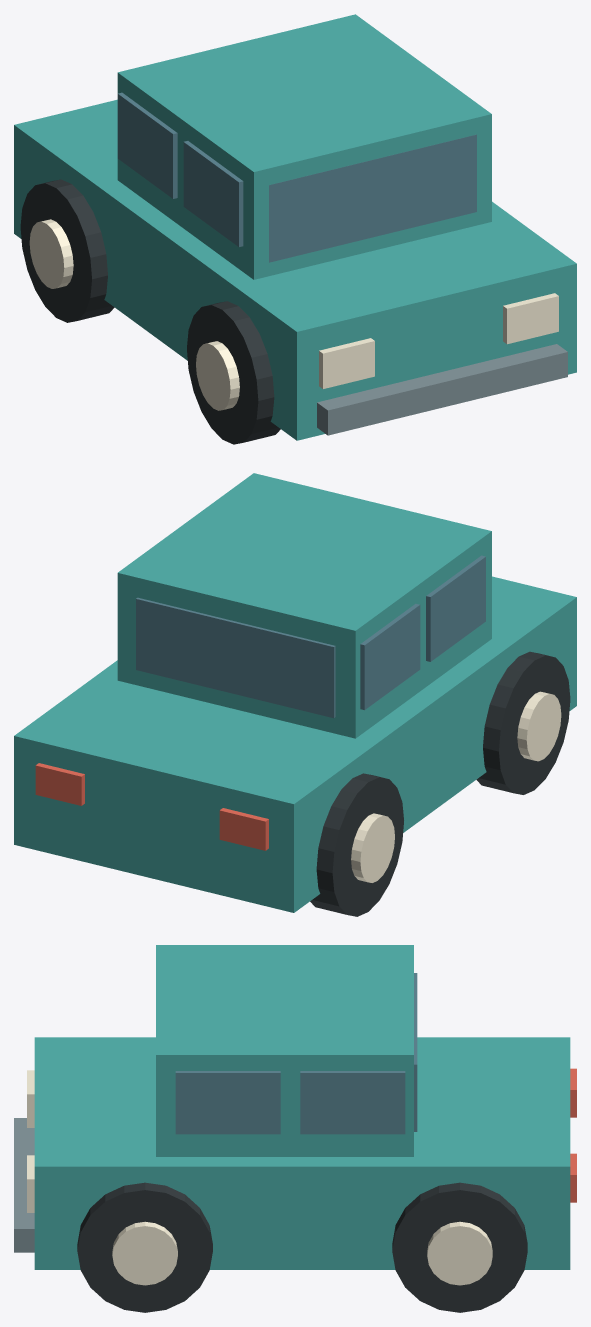
Rendered from car.glb.
The picture shows the model from 3 angles, top to bottom: view 1: azimuth 30°, elevation 25°; view 2: azimuth 150°, elevation 25°; view 3: azimuth 270°, elevation 25°; orthographic projection. The views are drawn at different scales.
Parts seen in each view (by area): view 1: Chassis, Cabin, Front windshield, Bumper, Wheel, Wheel.001, Side glass.001, Side glass, Hub.001, Hub, Headlamp.001, Headlamp; view 2: Chassis, Cabin, Rear windshield, Wheel, Wheel.001, Side glass.001, Side glass, Hub.001, Hub, Tail light, Tail light.001; view 3: Chassis, Cabin, Wheel.003, Wheel.002, Side glass.002, Side glass.003, Hub.003, Hub.002, Bumper, Rear windshield.
Boxes of the visible parts, left/top/right/bottom form: Chassis: left=14, top=99, right=576, bottom=440; Cabin: left=117, top=14, right=491, bottom=279; Front windshield: left=269, top=134, right=476, bottom=262; Bumper: left=317, top=344, right=567, bottom=435; Wheel: left=187, top=301, right=280, bottom=444; Wheel.001: left=20, top=179, right=114, bottom=322; Side glass.001: left=117, top=92, right=177, bottom=198; Side glass: left=183, top=141, right=243, bottom=246; Hub.001: left=29, top=219, right=73, bottom=288; Hub: left=196, top=341, right=239, bottom=410; Headlamp.001: left=503, top=293, right=558, bottom=344; Headlamp: left=319, top=338, right=374, bottom=388; Chassis: left=14, top=576, right=576, bottom=912; Cabin: left=117, top=473, right=491, bottom=738; Rear windshield: left=136, top=597, right=335, bottom=718; Wheel: left=476, top=651, right=570, bottom=794; Wheel.001: left=310, top=773, right=403, bottom=916; Side glass.001: left=360, top=603, right=420, bottom=710; Side glass: left=426, top=555, right=485, bottom=661; Hub.001: left=351, top=813, right=394, bottom=882; Hub: left=517, top=691, right=561, bottom=761; Tail light: left=219, top=808, right=268, bottom=850; Tail light.001: left=35, top=763, right=84, bottom=805; Chassis: left=34, top=1037, right=570, bottom=1269; Cabin: left=156, top=945, right=413, bottom=1156; Wheel.003: left=392, top=1182, right=527, bottom=1312; Wheel.002: left=77, top=1182, right=212, bottom=1312; Side glass.002: left=175, top=1071, right=280, bottom=1134; Side glass.003: left=300, top=1071, right=405, bottom=1134; Hub.003: left=427, top=1221, right=492, bottom=1285; Hub.002: left=112, top=1221, right=177, bottom=1285; Bumper: left=14, top=1118, right=34, bottom=1252; Rear windshield: left=414, top=973, right=417, bottom=1131.
Bounding box in the file's own units: 1.65 × 1.22 × 2.57.
